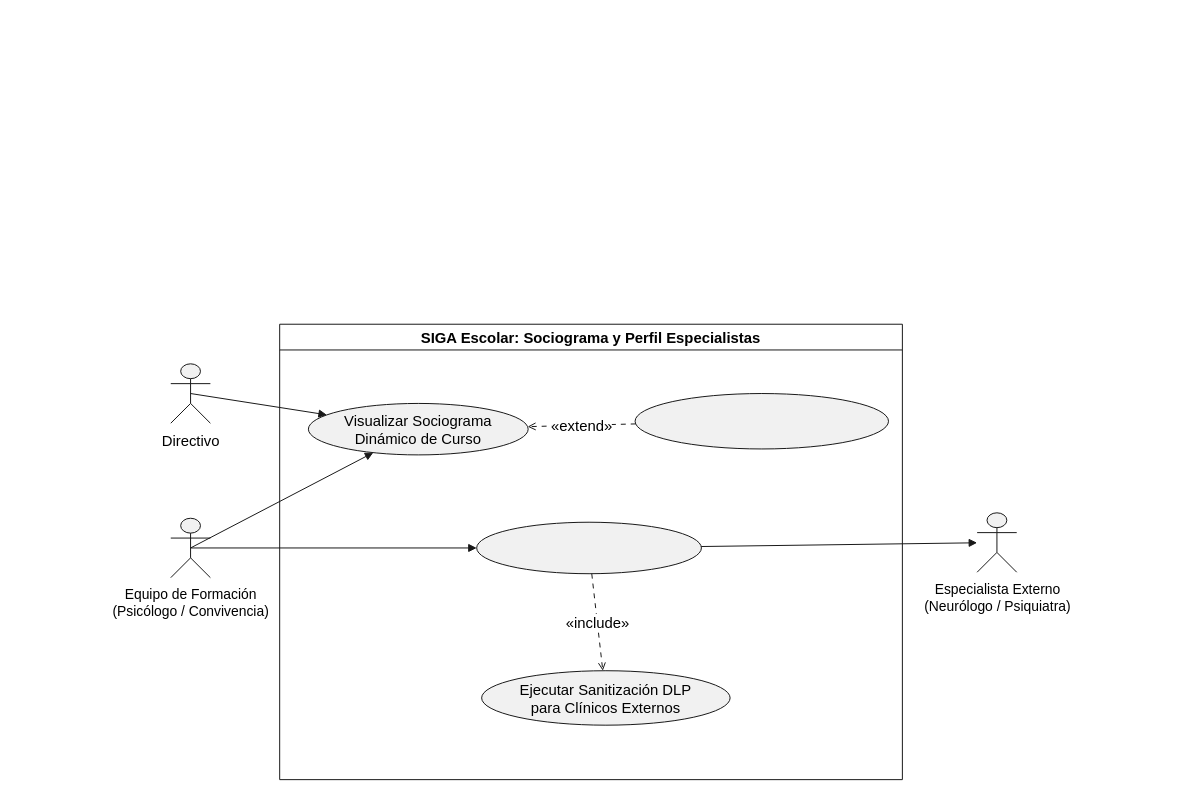
This 1178x797 diagram has some shape labels left out. The centre of each missing label's shape, as x and y in pixels:
Exportar Perfil Escolar para Especialistas: point 588,547
Filtrar Red Socioemocional por Rango Temporal: point 761,421
